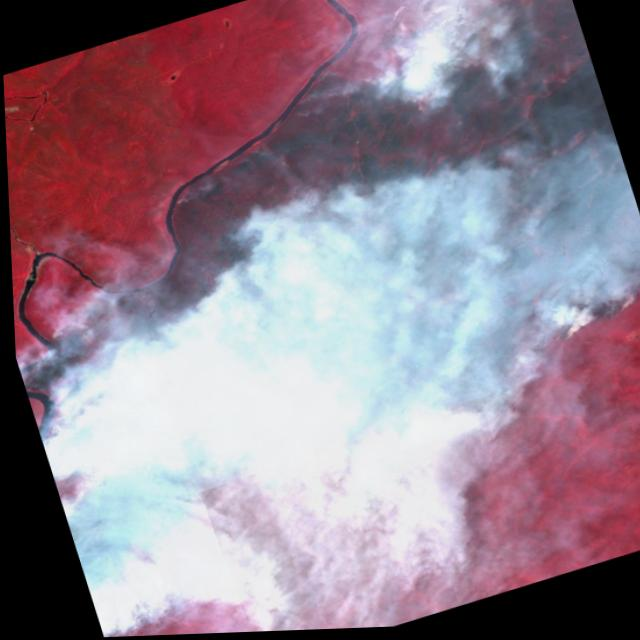fire: (5, 129, 640, 634)
